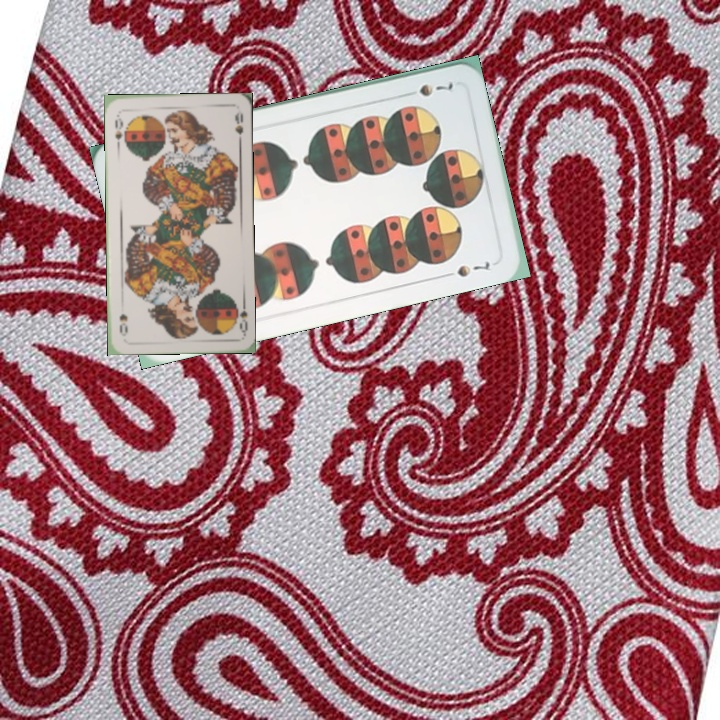S7: (400, 78, 456, 100)
SO: (231, 296, 250, 337), (111, 111, 127, 150)
